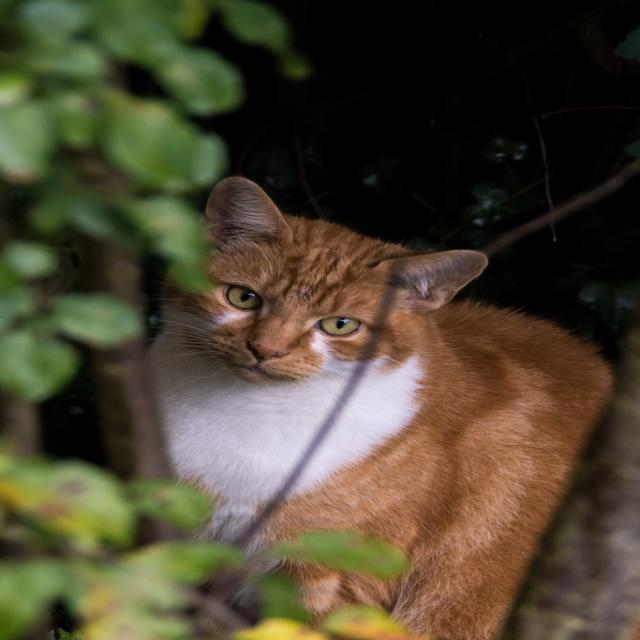Cat: (136, 170, 614, 640)
